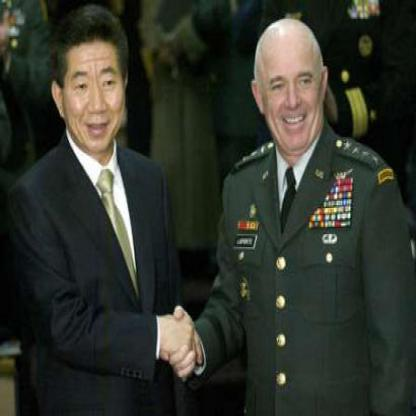face: (62, 22, 128, 156), (260, 21, 325, 156)
